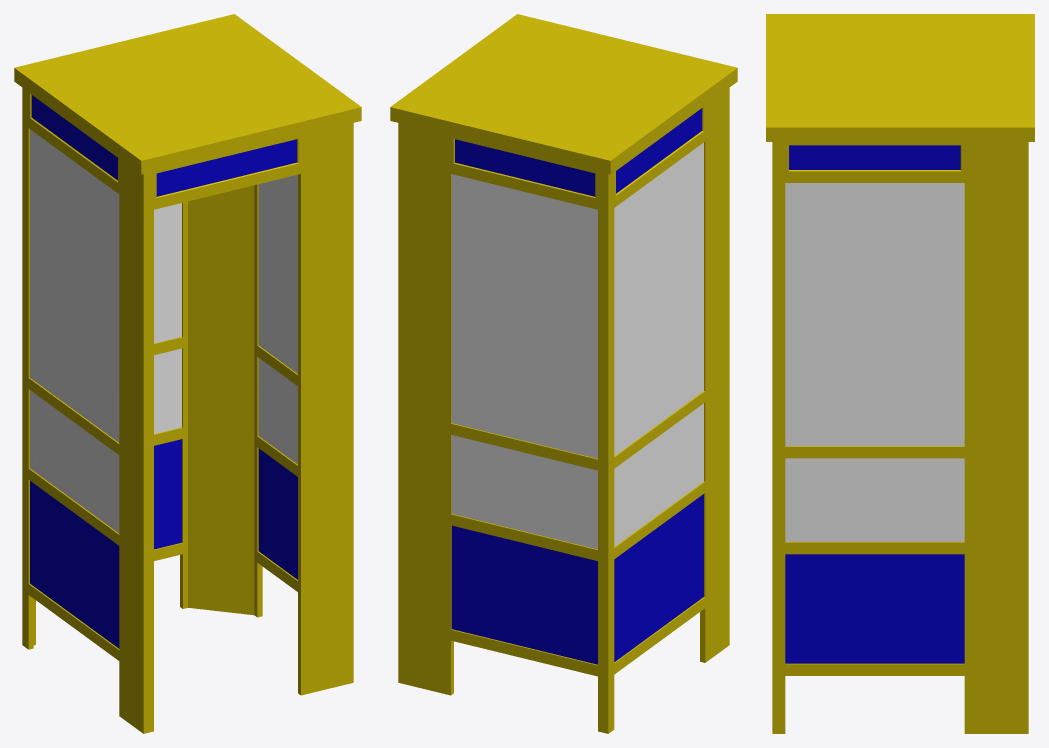
Rendered from payphone_booth02.fbx.
3 views of the same model, side by side, from view 1: azimuth 30°, elevation 25°; view 2: azimuth 150°, elevation 25°; view 3: azimuth 270°, elevation 25° (orthographic). The views are drawn at different scales.
Visible parts, largest first — view 1: payphone_booth02; view 2: payphone_booth02; view 3: payphone_booth02.
Part boxes in pixels (x1,y1,x2,y2): payphone_booth02: [14, 14, 361, 733]; payphone_booth02: [390, 14, 737, 733]; payphone_booth02: [766, 14, 1034, 733].
Bounding box in the file's own units: 84 × 210 × 84.
